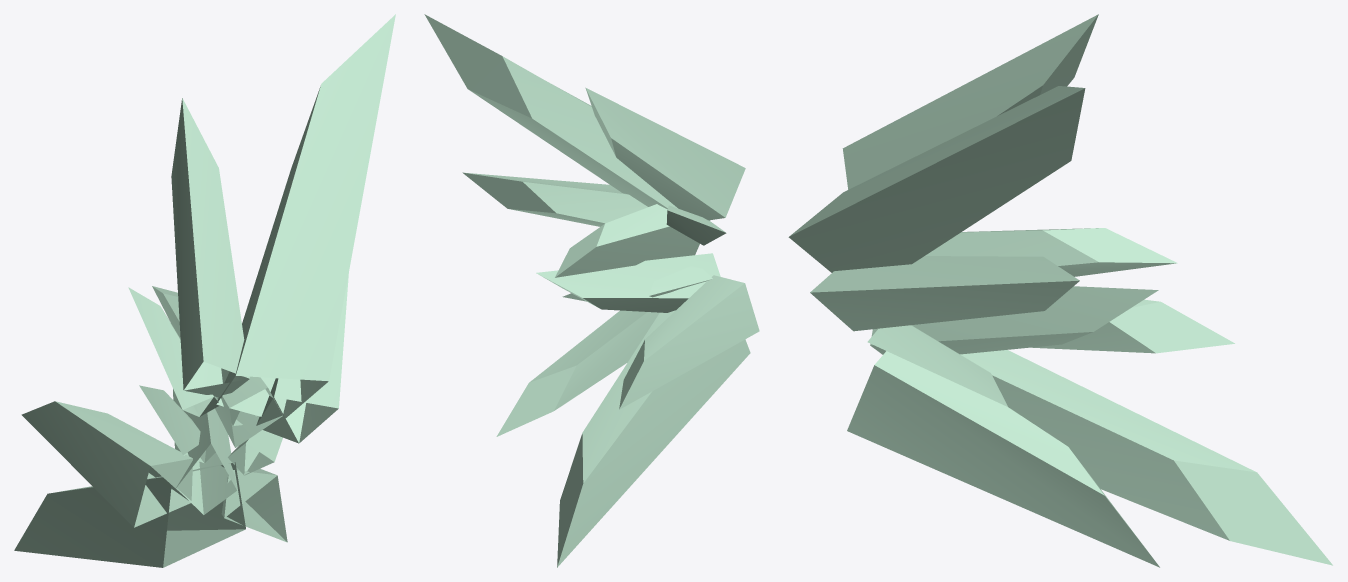
3 renders of one model, left to right at view 1: azimuth 30°, elevation 25°; view 2: azimuth 150°, elevation 25°; view 3: azimuth 270°, elevation 25°, orthographic. The views are drawn at different scales.
Visible parts, largest first — view 1: Object94; view 2: Object94; view 3: Object94.
Boxes of the visible parts, <box> form: Object94: <box>14,14,395,567</box>; Object94: <box>424,14,759,567</box>; Object94: <box>788,14,1332,567</box>.
Bounding box in the file's own units: 24530 × 37691 × 29468.
